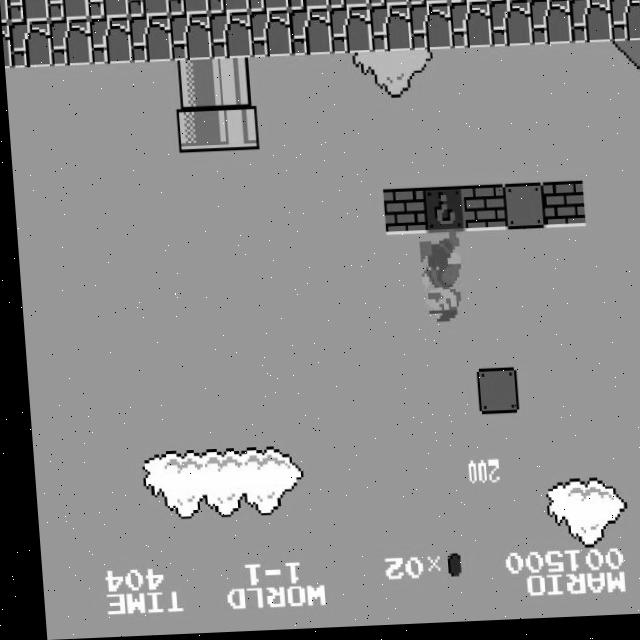0- big_mario: (414, 233, 463, 329)
1- brick_block: (459, 188, 503, 236), (379, 191, 423, 239), (539, 186, 583, 233)
13- mystery_block: (419, 190, 463, 237)
14- pipe: (171, 61, 215, 109), (211, 60, 255, 107)
15- pipe_head: (214, 105, 257, 153), (174, 107, 217, 154)
17- undestructible_block: (568, 1, 612, 49), (448, 5, 492, 53), (368, 8, 412, 56), (248, 12, 292, 60), (168, 15, 212, 63), (48, 19, 92, 67), (528, 3, 572, 50), (488, 4, 532, 51), (408, 7, 452, 54), (328, 10, 372, 57), (288, 11, 332, 58), (208, 14, 252, 61), (128, 17, 172, 64), (88, 18, 132, 65), (8, 21, 52, 68), (609, 1, 640, 48), (7, 0, 49, 23), (47, 0, 89, 21), (87, 0, 129, 20), (127, 0, 169, 19), (167, 0, 209, 17), (207, 0, 249, 16), (247, 0, 289, 14), (287, 0, 329, 13), (327, 0, 369, 12), (1, 22, 11, 68), (367, 0, 409, 10), (407, 0, 449, 9), (447, 0, 489, 7), (487, 0, 529, 6), (527, 0, 569, 5), (0, 0, 8, 23), (567, 0, 609, 3), (608, 0, 640, 2)
3- empty_block: (499, 187, 543, 234), (470, 372, 513, 418)
